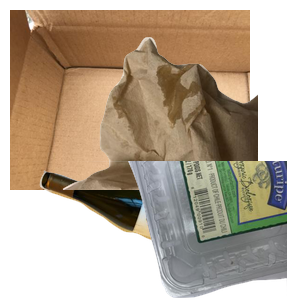cardboard: (10, 10, 250, 190)
glass: (37, 168, 242, 300)
plastic: (60, 161, 300, 300)
trash: (60, 35, 300, 215)
